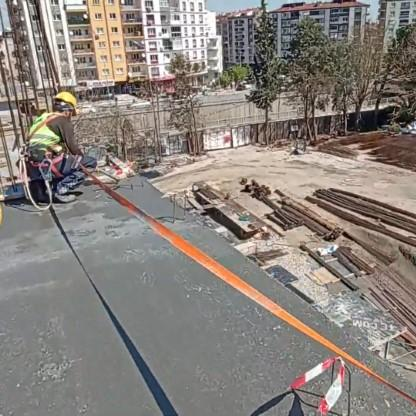helmet: (44, 92, 90, 116)
